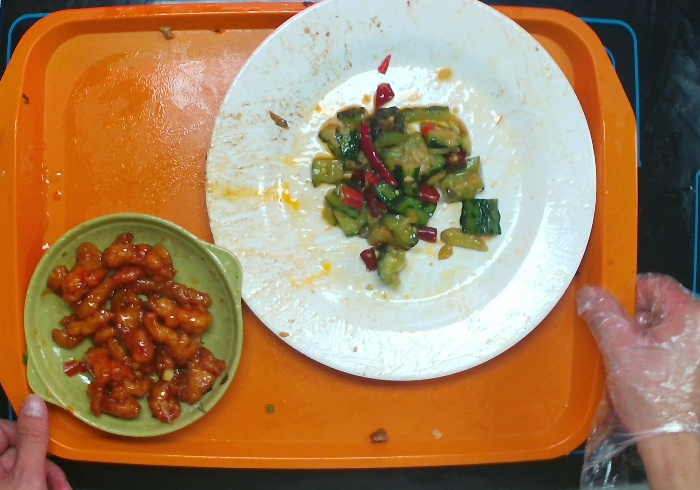NLDX-Da_Yuan_Pan: (208, 1, 598, 381)
NLDX-Lv_Hua_Shuang_Er_Die: (15, 213, 247, 440)
